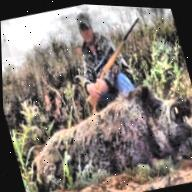boar: (13, 75, 192, 192)
